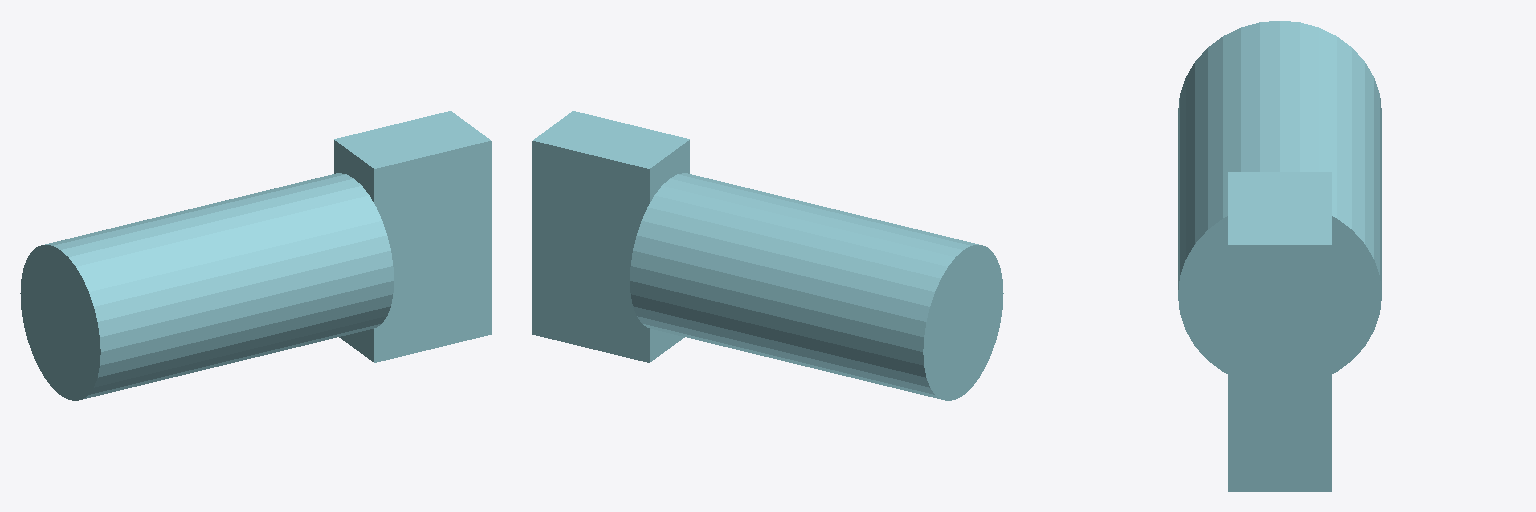
robot.urdf — cylinder_brush_v9003:
<?xml version="1.0"?>
<robot name="cylinder_brush_v9003">

  <link name="cylinder_brush_v9003">
    <!-- Handle -->
    <visual>
      <origin xyz="0 0 0" rpy="0 1.5707963267948966 0"/>
      <geometry>
        <cylinder length="0.12609390523730651" radius="0.02983548951857421"/>
      </geometry>
      <material name="material">
        <color rgba="0.639 0.847 0.882 1.0"/>
      </material>
    </visual>
    <collision>
      <origin xyz="0 0 0" rpy="0 1.5707963267948966 0"/>
      <geometry>
        <cylinder length="0.12609390523730651" radius="0.02983548951857421"/>
      </geometry>
    </collision>

    <!-- Head -->
    <visual>
      <origin xyz="0.08818721878432015 0 0" rpy="0 0 0"/>
      <geometry>
        <box size="0.05028053233133377 0.030331596037951138 0.07965422909652534"/>
      </geometry>
      <material name="material">
        <color rgba="0.639 0.847 0.882 1.0"/>
      </material>
    </visual>
    <collision>
      <origin xyz="0.08818721878432015 0 0" rpy="0 0 0"/>
      <geometry>
        <box size="0.05028053233133377 0.030331596037951138 0.07965422909652534"/>
      </geometry>
    </collision>

    <inertial>
      <density value="400.0"/>
    </inertial>
  </link>

</robot>

--- Render facts (derived) ---
3 views of the same robot in one strip: view 1: azimuth 30°, elevation 25°; view 2: azimuth 150°, elevation 25°; view 3: azimuth 270°, elevation 25° (orthographic).
Model cylinder_brush_v9003 with 1 links and 0 joints (none), rooted at cylinder_brush_v9003, posed all joints at 0.
Links seen in each view (by area): view 1: cylinder_brush_v9003; view 2: cylinder_brush_v9003; view 3: cylinder_brush_v9003.
Link boxes in pixels (left/top/right/bottom): cylinder_brush_v9003: left=20, top=111, right=491, bottom=400; cylinder_brush_v9003: left=532, top=111, right=1003, bottom=400; cylinder_brush_v9003: left=1178, top=21, right=1381, bottom=491.
Size in the robot's own frame: 0.1764 by 0.0597 by 0.0797 metres.
Geometry: primitives only (box / cylinder / sphere), no mesh files.
